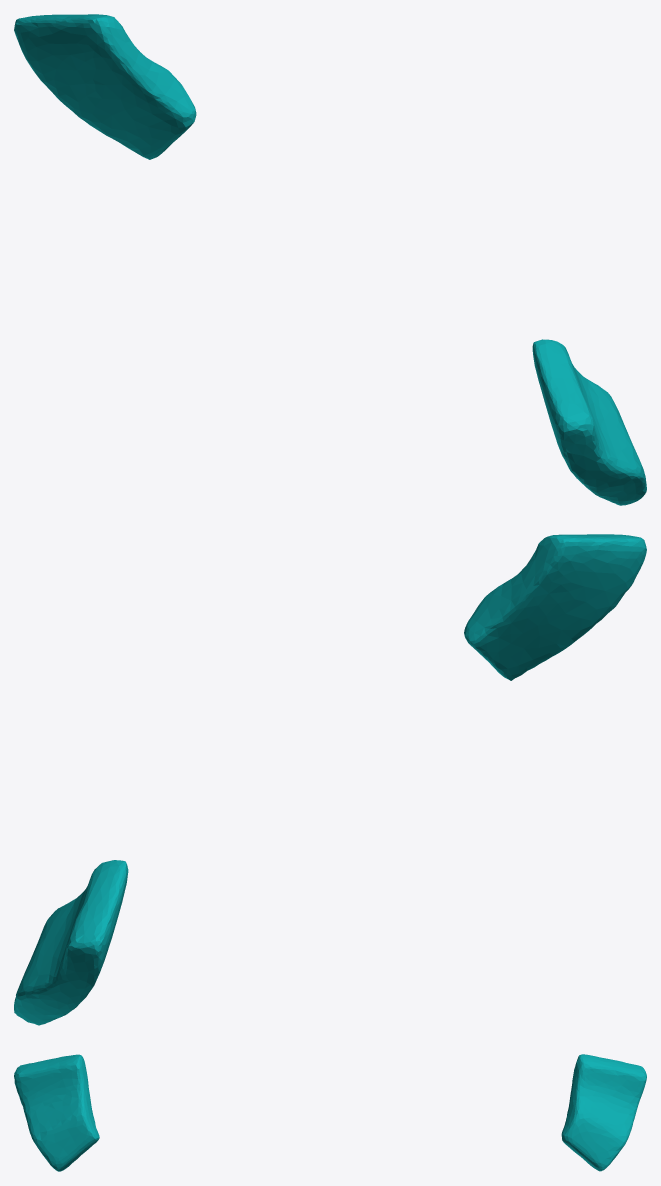
3 renders of one model, top to bottom at view 1: azimuth 30°, elevation 25°; view 2: azimuth 150°, elevation 25°; view 3: azimuth 270°, elevation 25°, orthographic. The views are drawn at different scales.
Visible parts, largest first — view 1: 1011.obj; view 2: 1011.obj; view 3: 1011.obj.
Boxes of the visible parts, x1,y1,x2,y2 form: 1011.obj: (14, 14, 646, 505); 1011.obj: (14, 534, 646, 1025); 1011.obj: (14, 1054, 646, 1171).
Bounding box in the file's own units: 1215 × 1651 × 9811.
